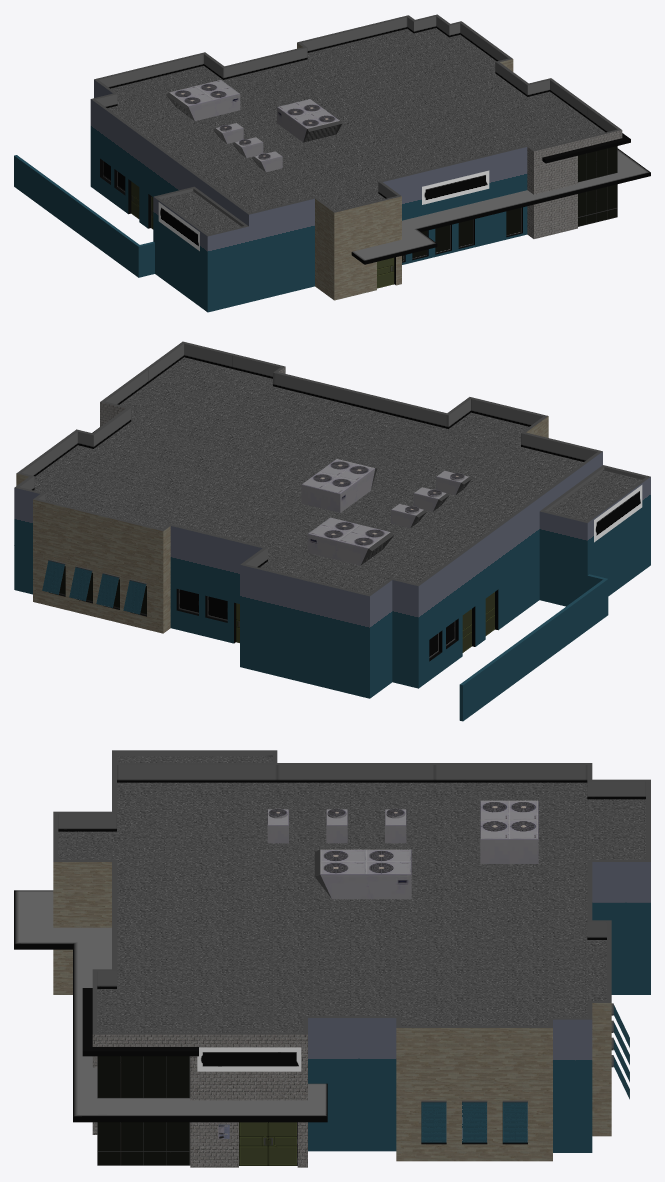
3 views of the same model, one above another, from view 1: azimuth 30°, elevation 25°; view 2: azimuth 150°, elevation 25°; view 3: azimuth 270°, elevation 25° (orthographic). The views are drawn at different scales.
Parts seen in each view (by area): view 1: export SF; view 2: export SF; view 3: export SF.
Part boxes in pixels (bbox=[...]): export SF: bbox=[14, 14, 650, 312]; export SF: bbox=[14, 341, 650, 721]; export SF: bbox=[14, 750, 650, 1167].
Size of the model in its own units: 400 by 79.09 by 325.
Materials: 1 (1 with a texture image).
